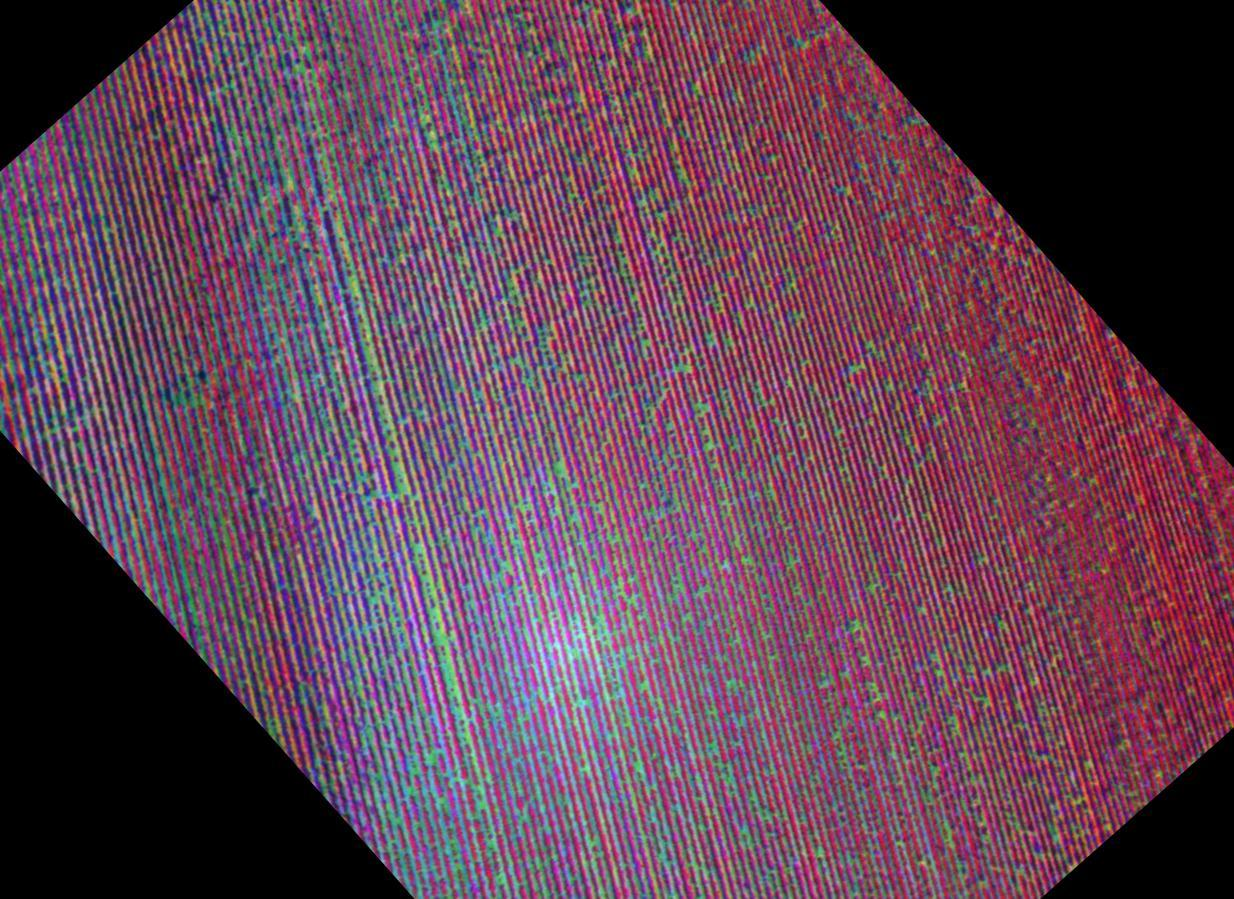dc: (136, 343, 250, 446), (560, 583, 660, 683)
